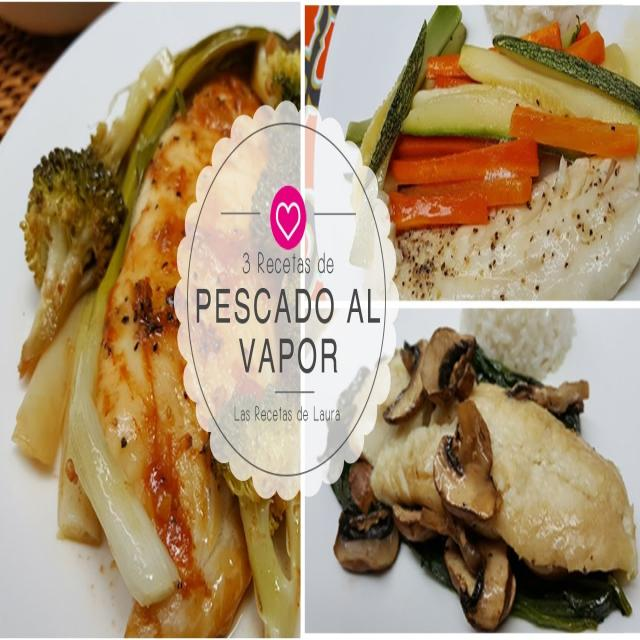pescado: (375, 398, 635, 600)
